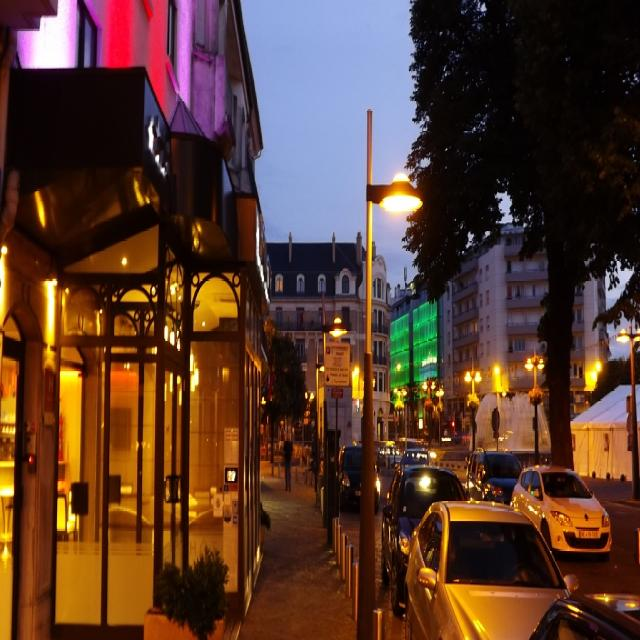other: (333, 439, 612, 639)
